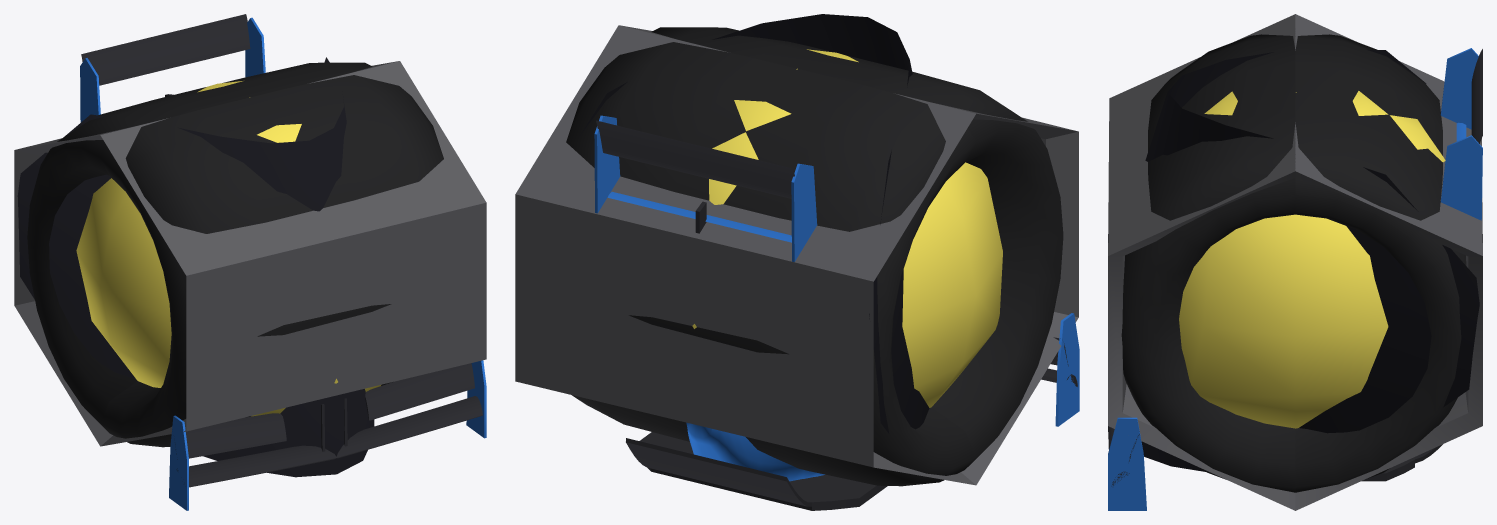
3 views of the same model, side by side, from view 1: azimuth 30°, elevation 25°; view 2: azimuth 150°, elevation 25°; view 3: azimuth 270°, elevation 25° (orthographic). The views are drawn at different scales.
Visible parts, largest first — view 1: rim_FR, tyre_FR, visor, carbon, tyre_FL, helmet, tyre_RR, body, tyre_RL, rim_RR; view 2: rim_RR, tyre_RR, tyre_RL, helmet, carbon, tyre_FR, body, visor, tyre_FL, rim_FR; view 3: helmet, tyre_RL, tyre_FL, visor, tyre_RR, rim_FR, body, tyre_FR, rim_RL, rim_FL, rim_RR, carbon.
Part boxes in pixels (left/top/right/bottom): rim_FR: left=14, top=61, right=486, bottom=446; tyre_FR: left=27, top=89, right=370, bottom=447; visor: left=17, top=57, right=374, bottom=477; carbon: left=81, top=14, right=482, bottom=487; tyre_FL: left=201, top=75, right=443, bottom=385; helmet: left=76, top=81, right=381, bottom=416; tyre_RR: left=35, top=78, right=284, bottom=433; body: left=80, top=17, right=486, bottom=510; tyre_RL: left=200, top=62, right=372, bottom=109; rim_RR: left=17, top=61, right=398, bottom=446; rim_RR: left=515, top=25, right=1078, bottom=485; tyre_RR: left=652, top=58, right=1063, bottom=486; tyre_RL: left=566, top=42, right=851, bottom=441; helmet: left=692, top=49, right=1002, bottom=407; carbon: left=596, top=120, right=1077, bottom=510; tyre_FR: left=755, top=45, right=1058, bottom=468; body: left=594, top=115, right=1079, bottom=481; visor: left=578, top=14, right=929, bottom=433; tyre_FL: left=651, top=27, right=834, bottom=77; rim_FR: left=620, top=25, right=1076, bottom=485; helmet: left=1179, top=91, right=1445, bottom=428; tyre_RL: left=1134, top=101, right=1466, bottom=492; tyre_FL: left=1121, top=103, right=1456, bottom=492; visor: left=1108, top=49, right=1479, bottom=471; tyre_RR: left=1295, top=34, right=1482, bottom=242; rim_FR: left=1108, top=14, right=1295, bottom=255; body: left=1108, top=48, right=1482, bottom=510; tyre_FR: left=1108, top=34, right=1295, bottom=242; rim_RL: left=1108, top=171, right=1295, bottom=510; rim_FL: left=1295, top=171, right=1482, bottom=510; rim_RR: left=1295, top=14, right=1482, bottom=255; carbon: left=1108, top=49, right=1482, bottom=486.
Size of the model in its own units: 65536 by 65534 by 65537.
